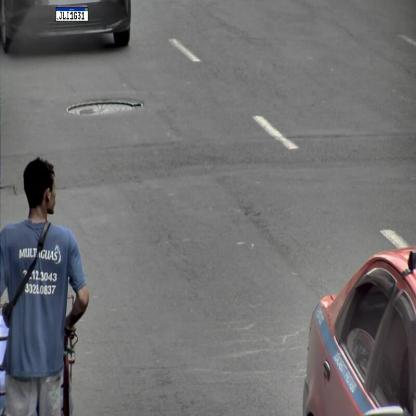PlacaM: (56, 7, 88, 21)
